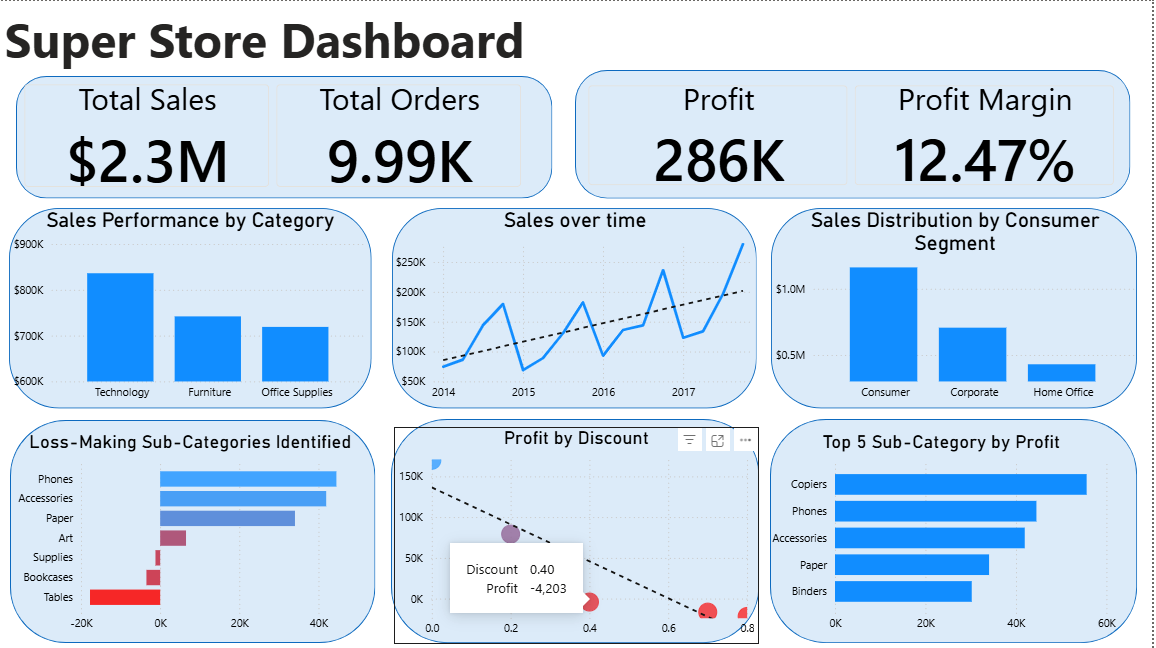

Layout of this report page (visuals, bound fields, positions):
{"tool":"powerbi","page":{"name":"Super store dashboard","canvas":[1280,720],"ordinal":0},"visuals":[{"type":"shape","box":[10,230.2,402.9,222.7],"z":0,"group":"g1"},{"type":"shape","box":[855.8,465.4,407.9,249],"z":1000,"group":"g1"},{"type":"shape","box":[434.2,465.4,409.1,249],"z":2000,"group":"g1"},{"type":"shape","box":[11.5,466.1,405.9,247.8],"z":3000,"group":"g1"},{"type":"shape","box":[857.1,230.2,406.6,222.7],"z":4000,"group":"g1"},{"type":"shape","box":[435.4,230.2,405.4,222.7],"z":6000,"group":"g1"},{"type":"shape","box":[17.4,84.2,595.9,136.1],"z":8000,"group":"g1"},{"type":"shape","box":[638.6,77.1,617.1,142.9],"z":9000,"group":"g1"},{"type":"group","id":"g1","title":"Group 1","box":[10,77.1,1253.7,637.3],"z":9500},{"type":"columnChart","title":"Sales Performance by Category","fields":{"Category":["Sheet2.Category"],"Y":["_measures.Total Sales"]},"box":[10,230.2,402.9,222.7],"z":10000},{"type":"lineChart","title":"Sales over time","fields":{"Category":["Sheet2.Order Date.Variation.Date Hierarchy.Year","Sheet2.Order Date.Variation.Date Hierarchy.Quarter","Sheet2.Order Date.Variation.Date Hierarchy.Month","Sheet2.Order Date.Variation.Date Hierarchy.Day"],"Y":["_measures.Total Sales"]},"box":[434.2,230.2,409.1,222.7],"z":11000},{"type":"textbox","box":[0,0,640,82.9],"z":12000},{"type":"cardVisual","fields":{"Data":["_measures.Total Sales","_measures.Total Orders"]},"box":[10,75,586.2,148.8],"z":13000},{"type":"cardVisual","fields":{"Data":["_measures.Profit","_measures.Profit Margin"]},"box":[637.1,77.1,618.6,145.7],"z":14000},{"type":"barChart","title":"Loss-Making Sub-Categories Identified","fields":{"Category":["Sheet2.Sub-Category"],"Y":["_measures.Profit"]},"box":[10,478,402.9,231.5],"z":15000},{"type":"clusteredBarChart","title":"Top 5 Sub-Category by Profit","fields":{"Category":["Sheet2.Sub-Category"],"Y":["_measures.Profit"]},"box":[848.3,478,396.6,231.5],"z":16000},{"type":"scatterChart","title":"Profit by Discount","fields":{"Y":["_measures.Profit"],"X":["Sheet2.Discount"]},"box":[437.9,473,405.4,241.5],"z":17000},{"type":"columnChart","title":"Sales Distribution by Consumer Segment","fields":{"Y":["_measures.Total Sales"],"Category":["Sheet2.Segment"]},"box":[857.1,230.2,409.1,222.7],"z":18000}]}

Visuals, with their boxes in screenshot pixels (x1, y1, x2, y2), scaled from the page's 1280x720 canvas onto the 1156x648 screenshot:
shape: select_region(9, 207, 373, 408)
shape: select_region(773, 419, 1141, 643)
shape: select_region(392, 419, 762, 643)
shape: select_region(10, 419, 377, 643)
shape: select_region(774, 207, 1141, 408)
shape: select_region(393, 207, 759, 408)
shape: select_region(16, 76, 554, 198)
shape: select_region(577, 69, 1134, 198)
"Group 1" group: select_region(9, 69, 1141, 643)
"Sales Performance by Category" columnChart: select_region(9, 207, 373, 408)
"Sales over time" lineChart: select_region(392, 207, 762, 408)
textbox: select_region(0, 0, 578, 75)
cardVisual - _measures.Total Sales x _measures.Total Orders: select_region(9, 68, 538, 201)
cardVisual - _measures.Profit x _measures.Profit Margin: select_region(575, 69, 1134, 201)
"Loss-Making Sub-Categories Identified" barChart: select_region(9, 430, 373, 639)
"Top 5 Sub-Category by Profit" clusteredBarChart: select_region(766, 430, 1124, 639)
"Profit by Discount" scatterChart: select_region(395, 426, 762, 643)
"Sales Distribution by Consumer Segment" columnChart: select_region(774, 207, 1144, 408)
